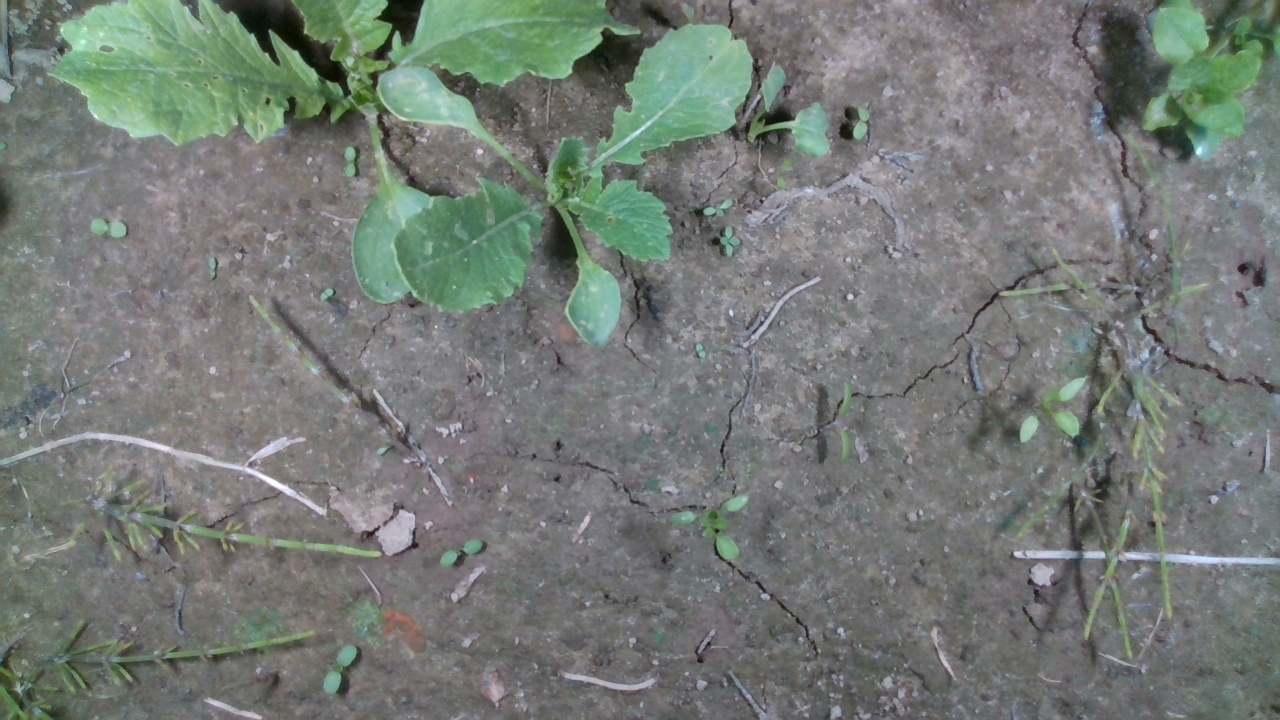weed: (435, 538, 486, 569), (839, 378, 855, 464)
